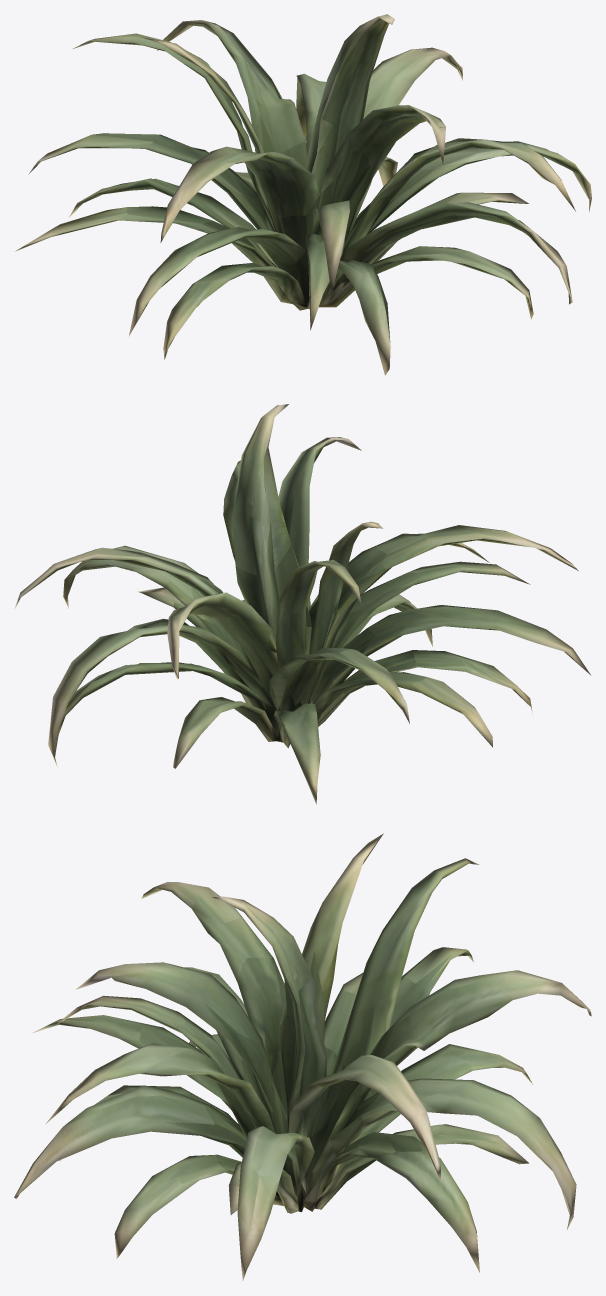
The model's file is grass-short-v1.glb.
3 views of the same model, one above another, from view 1: azimuth 30°, elevation 25°; view 2: azimuth 150°, elevation 25°; view 3: azimuth 270°, elevation 25° (orthographic). The views are drawn at different scales.
Visible parts, largest first — view 1: tripo_node_adcfbe72-0a26-4021-959c-8147c6ea743d; view 2: tripo_node_adcfbe72-0a26-4021-959c-8147c6ea743d; view 3: tripo_node_adcfbe72-0a26-4021-959c-8147c6ea743d.
Boxes of the visible parts, x1=… form: tripo_node_adcfbe72-0a26-4021-959c-8147c6ea743d: x1=15, y1=14, x2=591, y2=375; tripo_node_adcfbe72-0a26-4021-959c-8147c6ea743d: x1=14, y1=404, x2=591, y2=804; tripo_node_adcfbe72-0a26-4021-959c-8147c6ea743d: x1=14, y1=833, x2=591, y2=1280.
Bounding box in the file's own units: 0.4208 × 0.2401 × 0.3806.
1 material, 1 textured.
